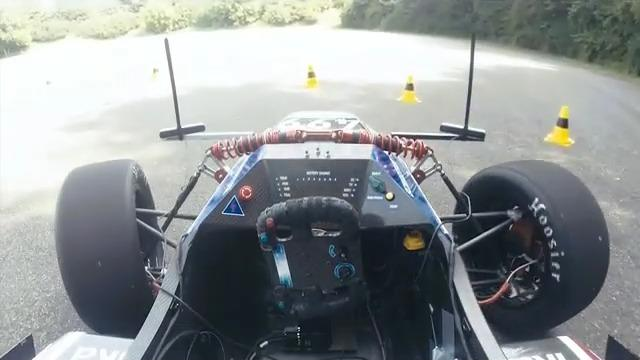yellow_cone: (539, 103, 576, 146), (392, 74, 421, 106), (301, 63, 321, 89), (148, 64, 164, 89)
